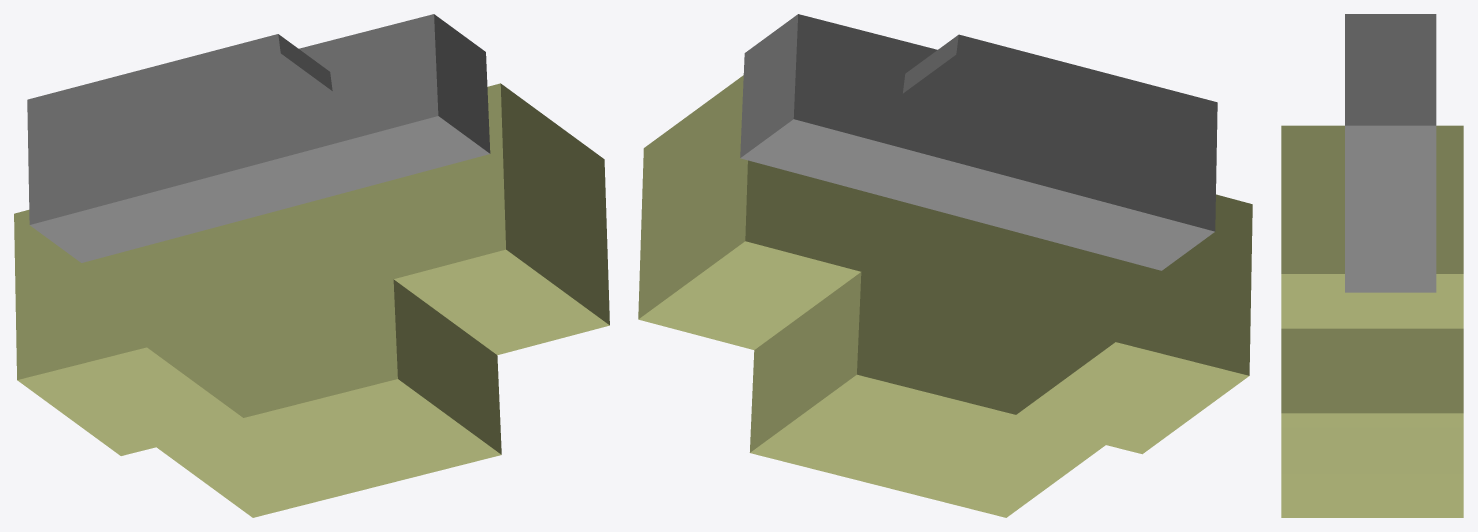
3 views of the same model, side by side, from view 1: azimuth 30°, elevation 25°; view 2: azimuth 150°, elevation 25°; view 3: azimuth 270°, elevation 25° (orthographic). The views are drawn at different scales.
Visible parts, largest first — view 1: 0_1_2_0_3_1_2_1_2_1; view 2: 0_1_2_0_3_1_2_1_2_1; view 3: 0_1_2_0_3_1_2_1_2_1.
Part boxes in pixels (left/top/right/bottom): 0_1_2_0_3_1_2_1_2_1: left=14, top=14, right=609, bottom=517; 0_1_2_0_3_1_2_1_2_1: left=638, top=14, right=1252, bottom=517; 0_1_2_0_3_1_2_1_2_1: left=1281, top=14, right=1463, bottom=517.
Size of the model in its own units: 16.49 by 12.49 by 6.
